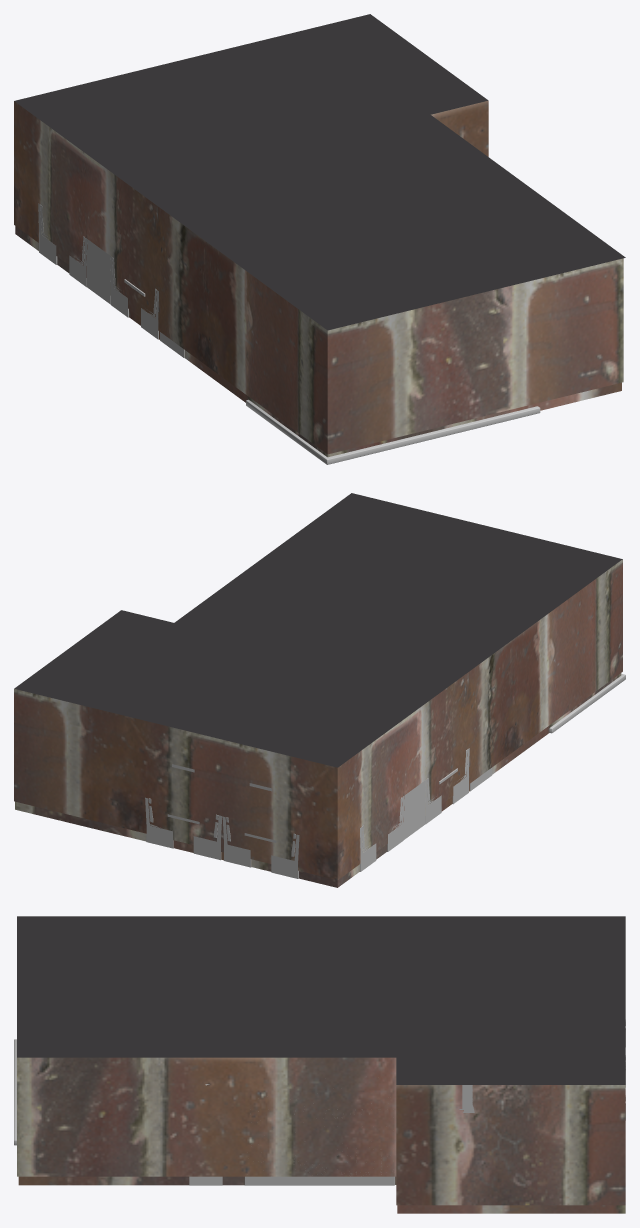
Rendered from 2024_BBVR Bar Scene_001.fbx.
3 renders of one model, top to bottom at view 1: azimuth 30°, elevation 25°; view 2: azimuth 150°, elevation 25°; view 3: azimuth 270°, elevation 25°, orthographic. The views are drawn at different scales.
Parts seen in each view (by area): view 1: Ceiliing, Structure, Stage, Bookshelf_01; view 2: Ceiliing, Structure, Bookshelf_01, BenchL_01.006, BenchL_01.009, BenchL_01, Stage, BenchL_01.003; view 3: Ceiliing, Structure, Shelves.
Part boxes in pixels (left/top/right/bottom): Ceiliing: left=14, top=14, right=625, bottom=330; Structure: left=14, top=100, right=623, bottom=457; Stage: left=246, top=399, right=540, bottom=464; Bookshelf_01: left=86, top=239, right=110, bottom=304; Ceiliing: left=14, top=493, right=622, bottom=767; Structure: left=14, top=559, right=622, bottom=887; Bookshelf_01: left=403, top=781, right=425, bottom=839; BenchL_01.006: left=193, top=815, right=222, bottom=860; BenchL_01.009: left=145, top=797, right=173, bottom=848; BenchL_01: left=271, top=834, right=299, bottom=878; Stage: left=549, top=673, right=625, bottom=733; BenchL_01.003: left=222, top=816, right=251, bottom=867; Ceiliing: left=17, top=916, right=625, bottom=1084; Structure: left=17, top=1057, right=625, bottom=1213; Shelves: left=244, top=1103, right=394, bottom=1185.
Size of the model in its own units: 857 by 304 by 1306.
